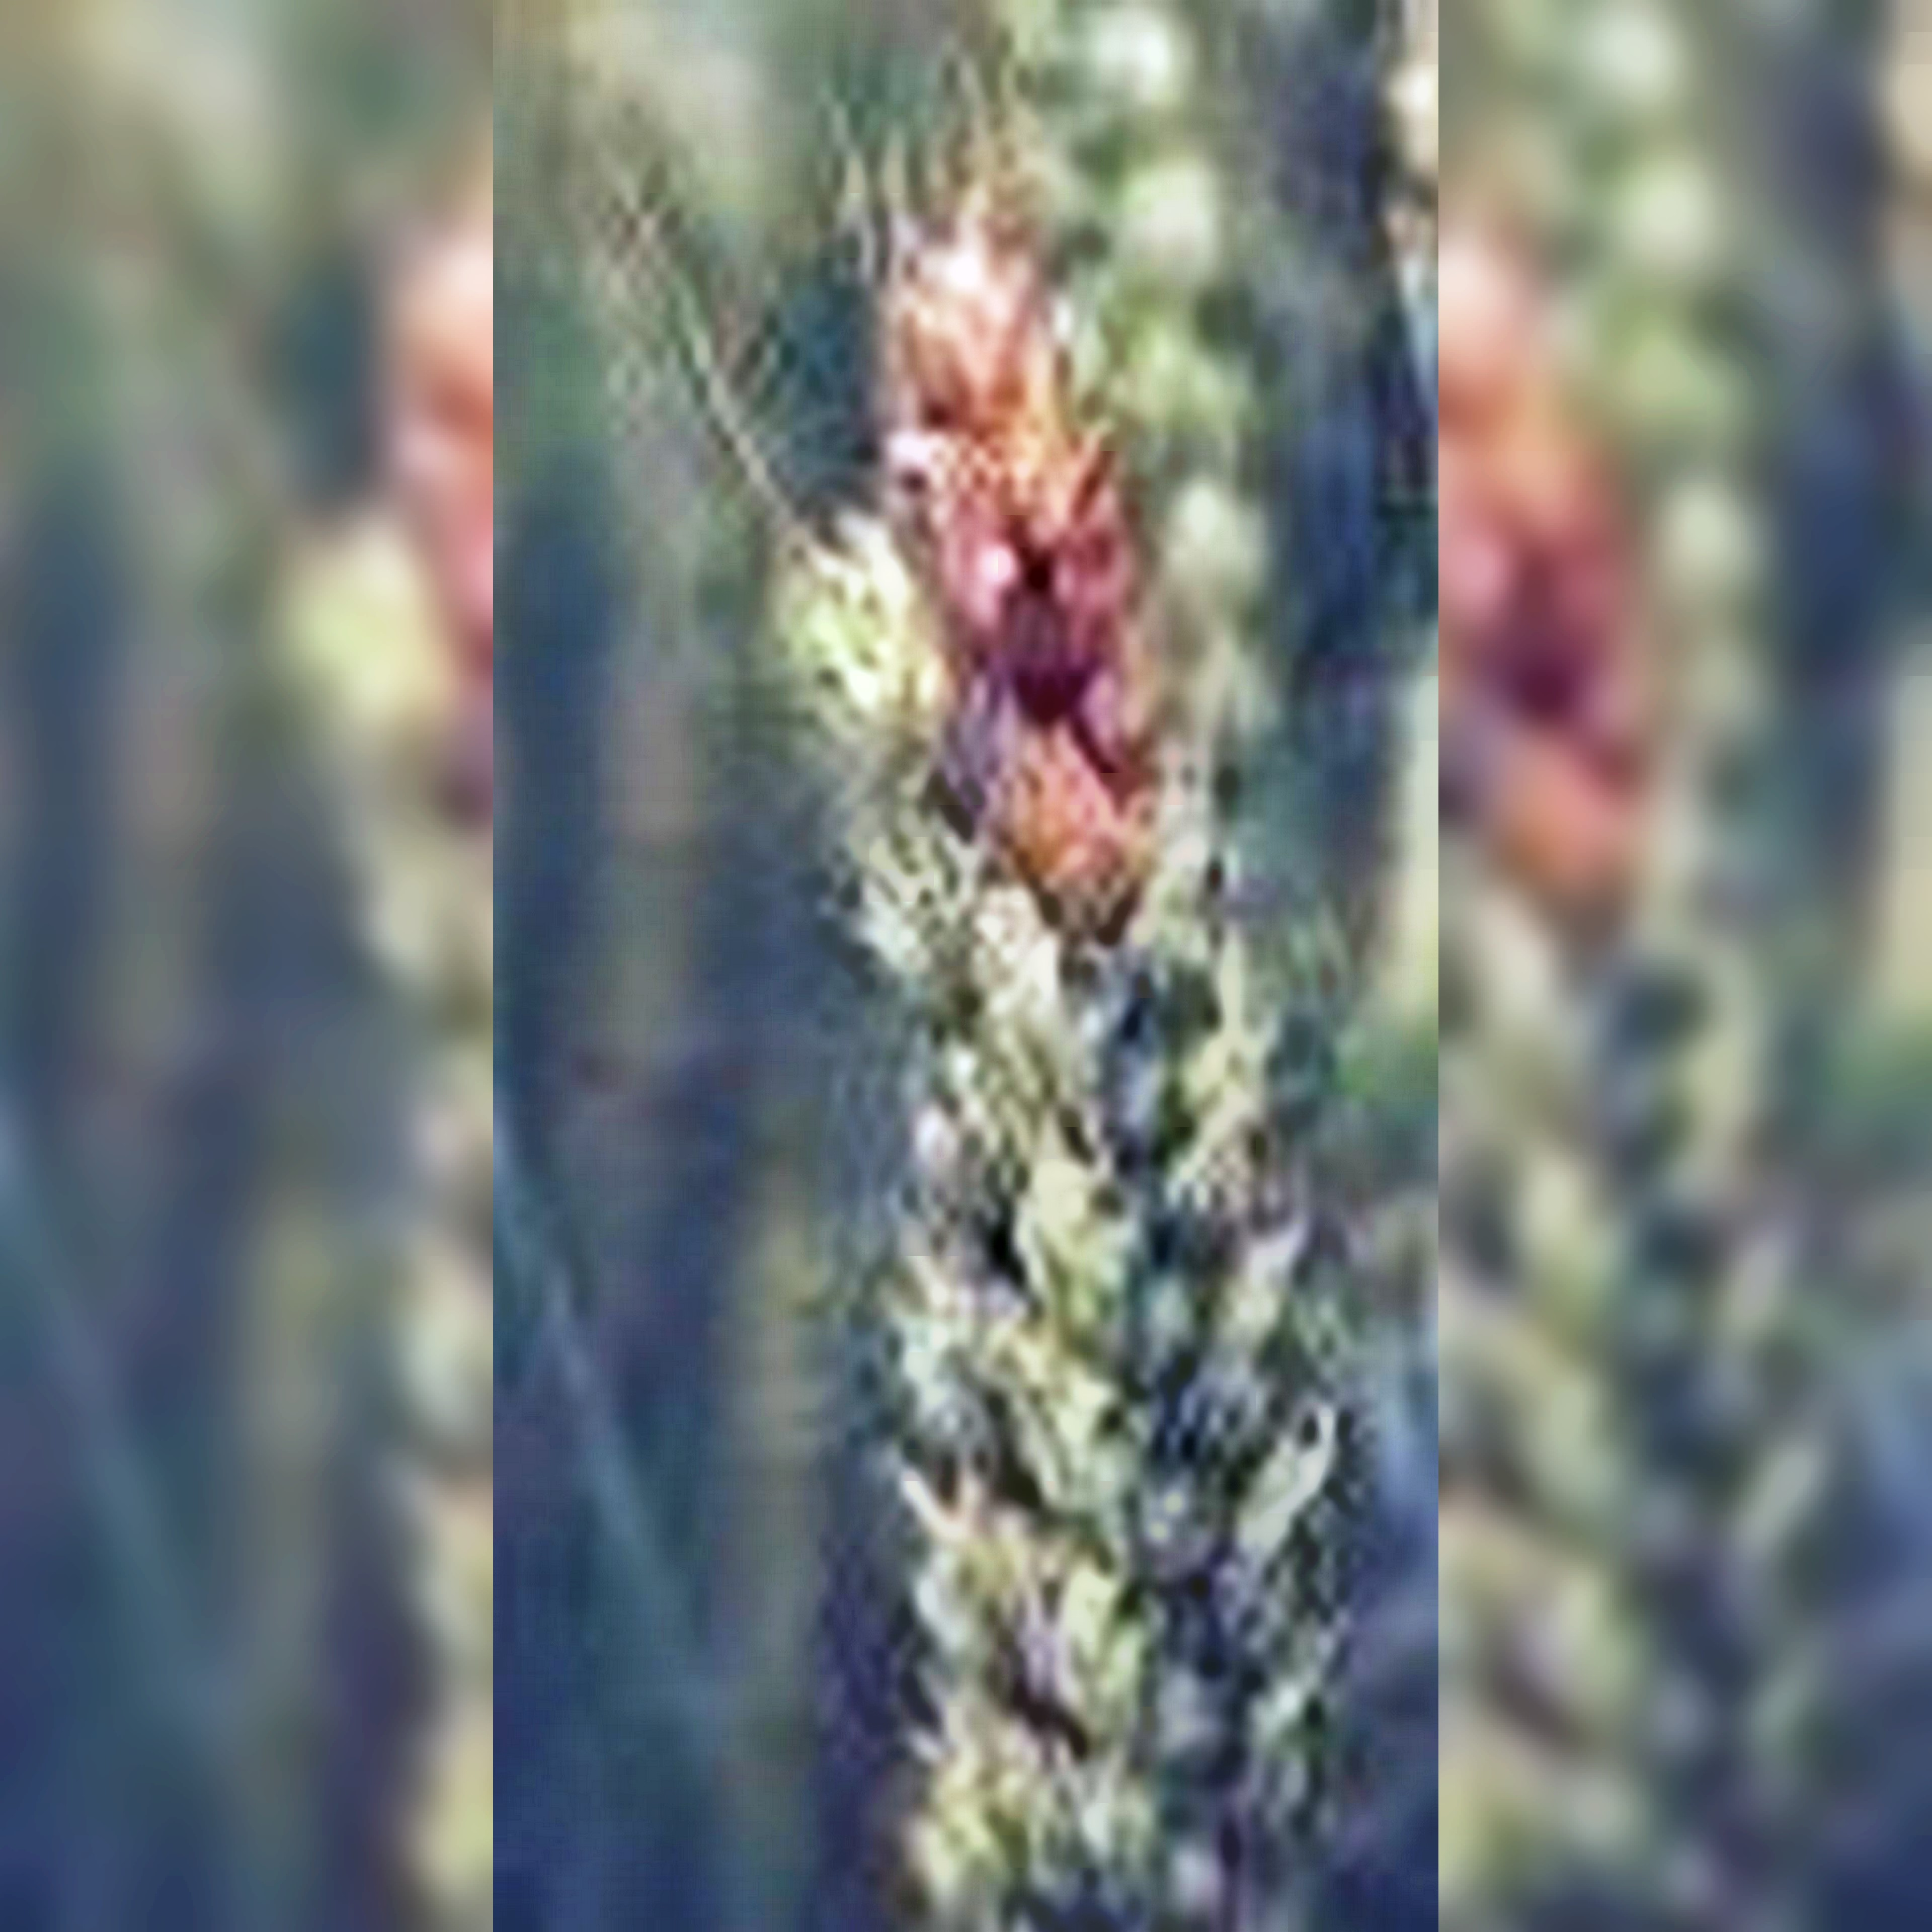Wheat scab: (835, 228, 1389, 1785)
